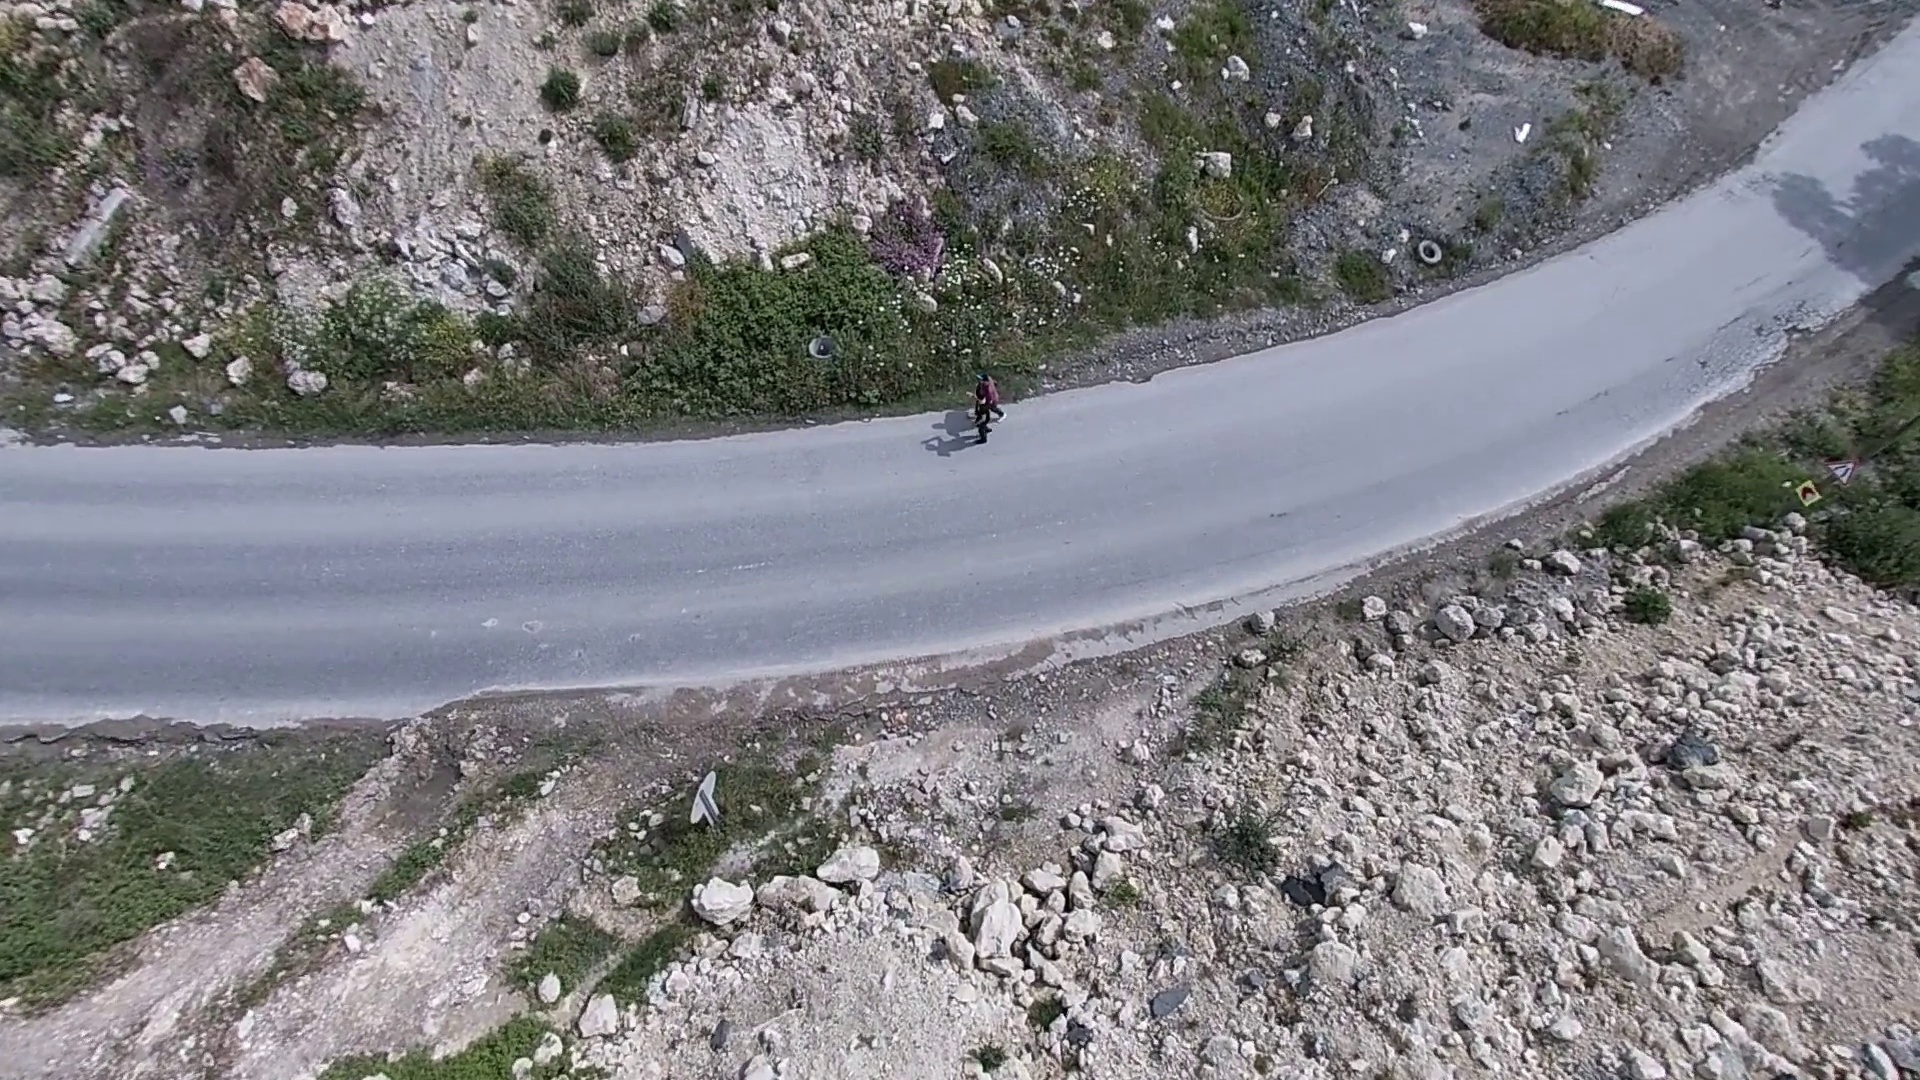insan: (975, 375, 1005, 427), (967, 393, 996, 444)
